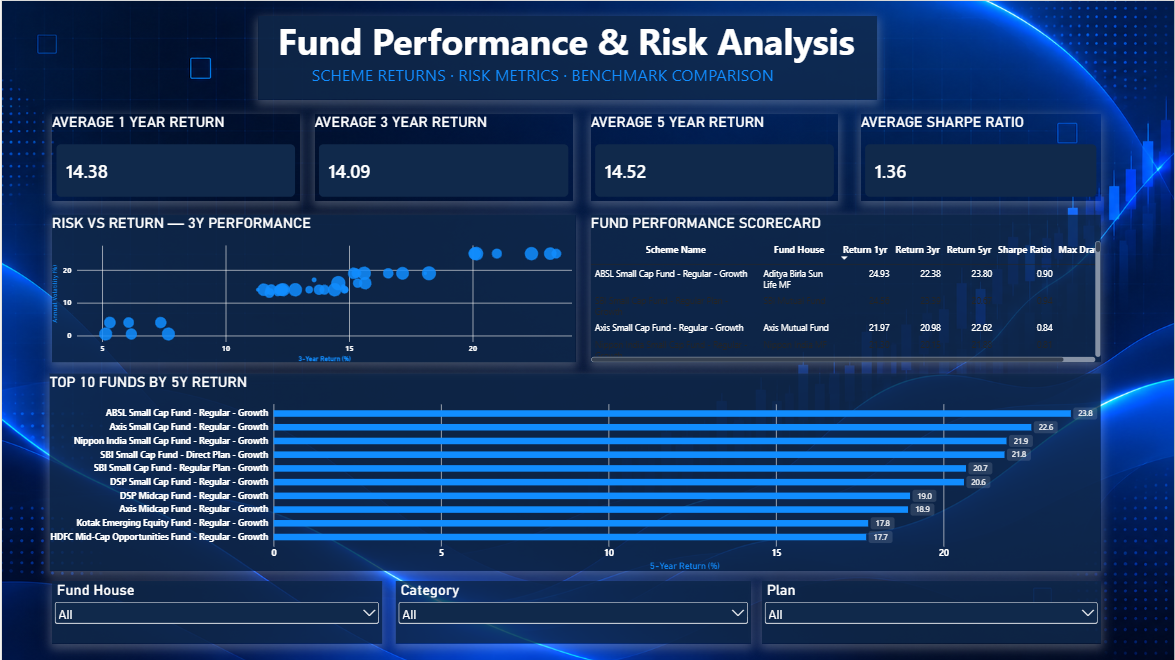

This screenshot's page, from the dashboard's own definition file:
{"tool":"powerbi","page":{"name":"Page 2","canvas":[1920,1080],"ordinal":1},"visuals":[{"type":"textbox","box":[419.7,24.6,1013.4,137.2],"z":0},{"type":"cardVisual","title":"AVERAGE 1 YEAR RETURN","fields":{"Data":["Avg(07_scheme_performance.return_1yr_pct)"]},"box":[81.9,184.3,405.4,143.3],"z":1000},{"type":"cardVisual","title":"AVERAGE 3 YEAR RETURN","fields":{"Data":["Avg(07_scheme_performance.return_3yr_pct)"]},"box":[511.8,184.3,423.8,143.3],"z":2000},{"type":"cardVisual","title":"AVERAGE 5 YEAR RETURN","fields":{"Data":["Avg(07_scheme_performance.return_5yr_pct)"]},"box":[964.3,184.3,405.4,143.3],"z":3000},{"type":"cardVisual","title":"AVERAGE SHARPE RATIO","fields":{"Data":["Avg(07_scheme_performance.sharpe_ratio)"]},"box":[1406.5,184.3,393.1,143.3],"z":4000},{"type":"clusteredBarChart","title":"TOP 10 FUNDS BY 5Y RETURN","fields":{"Category":["07_scheme_performance.scheme_name"],"Y":["Sum(07_scheme_performance.return_5yr_pct)"]},"box":[77.8,610.1,1721.8,323.5],"z":5000},{"type":"scatterChart","title":"RISK VS RETURN — 3Y PERFORMANCE","fields":{"Category":["07_scheme_performance.scheme_name"],"Size":["Sum(07_scheme_performance.aum_crore)"],"X":["Sum(07_scheme_performance.return_3yr_pct)"],"Y":["Sum(07_scheme_performance.std_dev_ann_pct)"]},"box":[81.9,350.1,857.8,241.6],"z":6000},{"type":"tableEx","title":"FUND PERFORMANCE SCORECARD","fields":{"Values":["07_scheme_performance.scheme_name","07_scheme_performance.fund_house","Avg(07_scheme_performance.return_1yr_pct)","Avg(07_scheme_performance.return_3yr_pct)","Avg(07_scheme_performance.return_5yr_pct)","Avg(07_scheme_performance.sharpe_ratio)","Avg(07_scheme_performance.max_drawdown_pct)"]},"box":[964.3,350.1,835.3,241.6],"z":7000},{"type":"slicer","fields":{"Values":["07_scheme_performance.fund_house"]},"box":[81.9,950,540.5,102.4],"z":8000},{"type":"slicer","fields":{"Values":["07_scheme_performance.category"]},"box":[644.9,950,581.4,102.4],"z":9000},{"type":"slicer","fields":{"Values":["07_scheme_performance.plan"]},"box":[1244.8,950,554.8,102.4],"z":10000}]}

Visuals, with their boxes in screenshot pixels (x1, y1, x2, y2), scaled from the page's 1920x1080 canvas onto the 1175x660 screenshot:
textbox: [257, 15, 877, 99]
"AVERAGE 1 YEAR RETURN" cardVisual: [50, 113, 298, 200]
"AVERAGE 3 YEAR RETURN" cardVisual: [313, 113, 573, 200]
"AVERAGE 5 YEAR RETURN" cardVisual: [590, 113, 838, 200]
"AVERAGE SHARPE RATIO" cardVisual: [861, 113, 1101, 200]
"TOP 10 FUNDS BY 5Y RETURN" clusteredBarChart: [48, 373, 1101, 571]
"RISK VS RETURN — 3Y PERFORMANCE" scatterChart: [50, 214, 575, 362]
"FUND PERFORMANCE SCORECARD" tableEx: [590, 214, 1101, 362]
slicer - 07_scheme_performance.fund_house: [50, 581, 381, 643]
slicer - 07_scheme_performance.category: [395, 581, 750, 643]
slicer - 07_scheme_performance.plan: [762, 581, 1101, 643]
